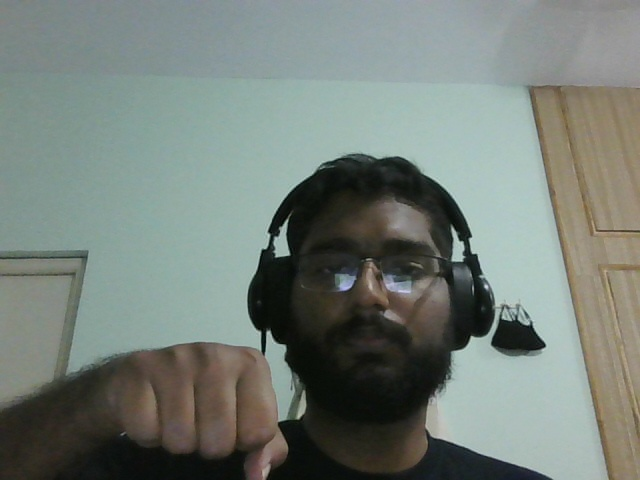Yes: (72, 333, 323, 480)
